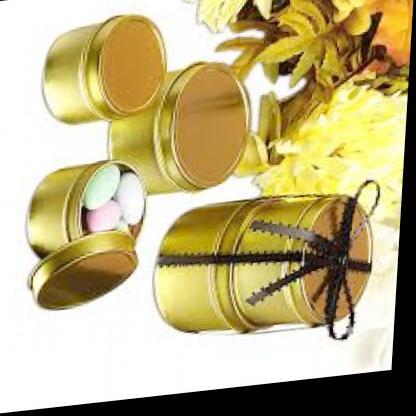Metal: (3, 0, 396, 387)
